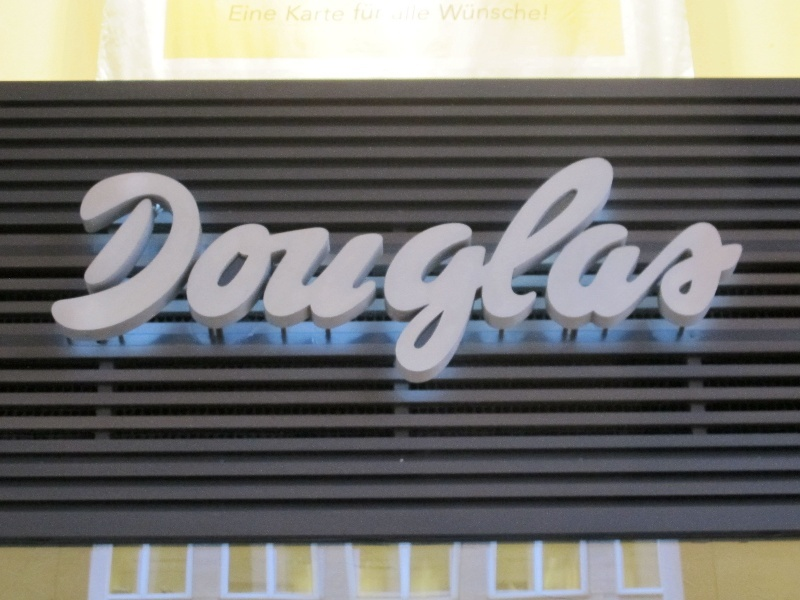text: (97, 152, 112, 382), (113, 152, 128, 382), (129, 152, 144, 382), (145, 152, 160, 382), (161, 152, 176, 382), (177, 152, 192, 382), (193, 152, 208, 382), (209, 152, 224, 382), (225, 152, 240, 382), (241, 152, 256, 382), (257, 152, 272, 382), (273, 152, 288, 382), (289, 152, 304, 382), (305, 152, 320, 382), (321, 152, 336, 382), (337, 152, 352, 382), (353, 152, 368, 382), (369, 152, 384, 382), (385, 152, 400, 382), (401, 152, 416, 382), (417, 152, 432, 382), (433, 152, 448, 382), (449, 152, 464, 382), (465, 152, 480, 382), (481, 152, 496, 382), (497, 152, 512, 382), (513, 152, 528, 382), (529, 152, 544, 382), (545, 152, 560, 382), (561, 152, 576, 382), (577, 152, 592, 382), (593, 152, 608, 382), (609, 152, 624, 382), (625, 152, 640, 382), (641, 152, 656, 382), (657, 152, 672, 382), (673, 152, 688, 382), (689, 152, 704, 382), (705, 152, 720, 382), (721, 152, 736, 382), (737, 152, 750, 382), (88, 152, 96, 382)
